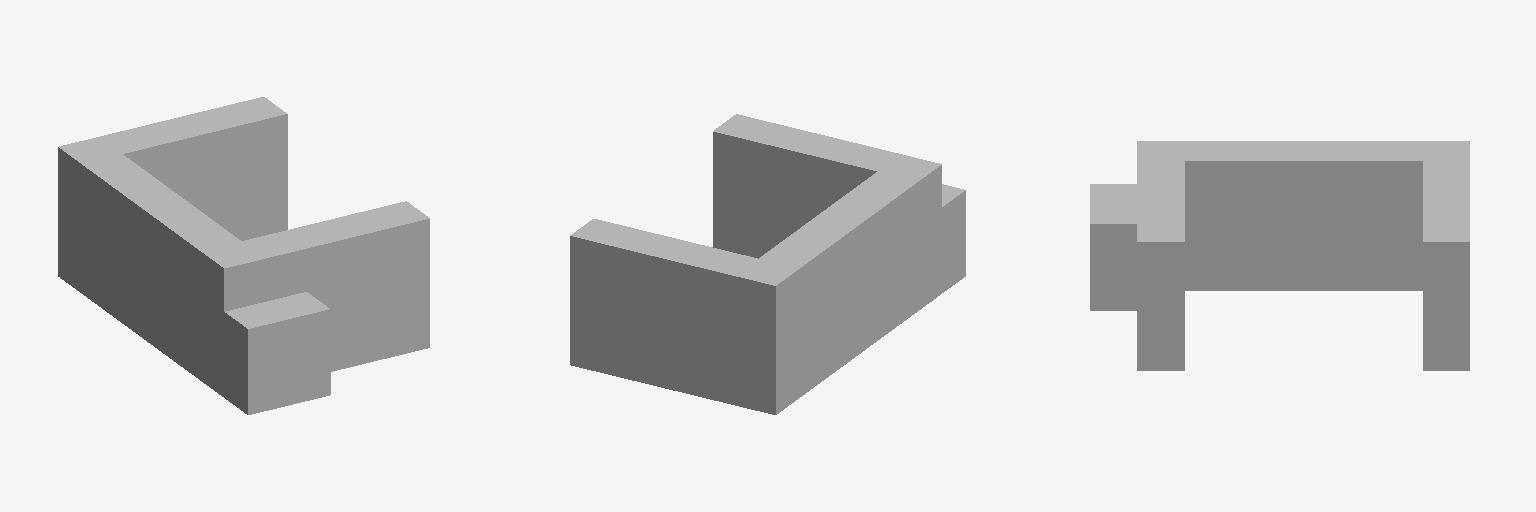
File: Elevator.obj
3 renders of one model, left to right at view 1: azimuth 30°, elevation 25°; view 2: azimuth 150°, elevation 25°; view 3: azimuth 270°, elevation 25°, orthographic.
Parts seen in each view (by area): view 1: object 1; view 2: object 1; view 3: object 1.
Boxes of the visible parts, box(x1,y1,x2,y2) form: object 1: box(58, 97, 429, 414); object 1: box(570, 114, 965, 414); object 1: box(1090, 141, 1469, 370).
Bounding box in the file's own units: 0.5 × 0.3 × 0.8.